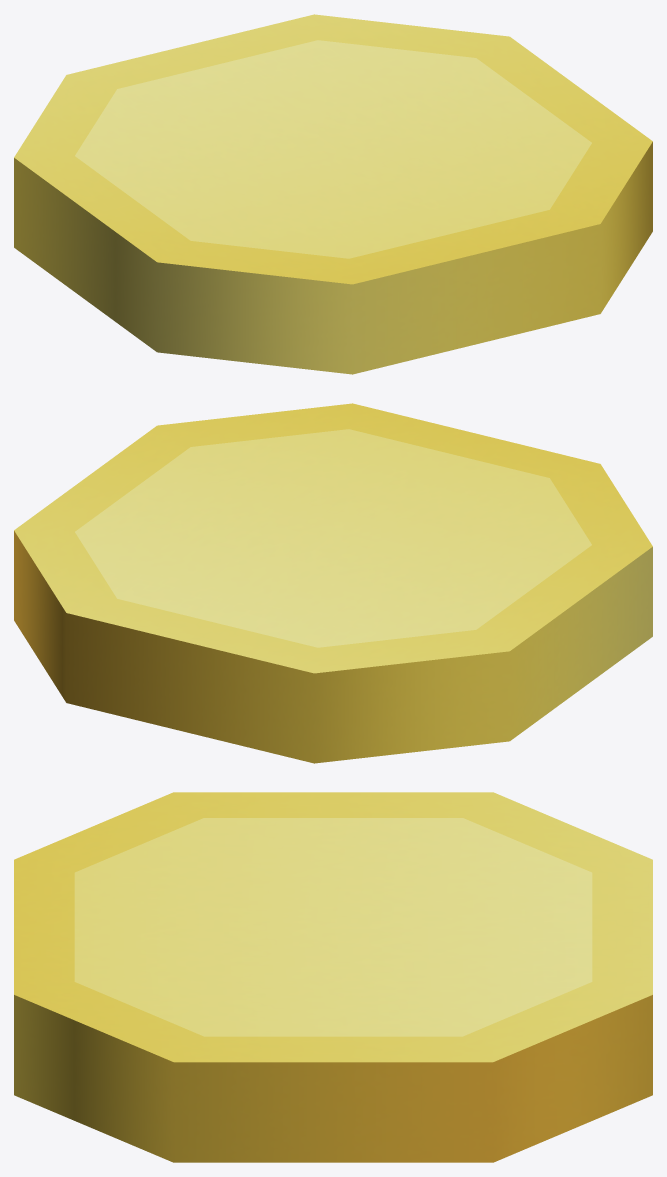
File: banana_slice.fbx
3 renders of one model, top to bottom at view 1: azimuth 30°, elevation 25°; view 2: azimuth 150°, elevation 25°; view 3: azimuth 270°, elevation 25°, orthographic. The views are drawn at different scales.
Parts seen in each view (by area): view 1: banana_slice; view 2: banana_slice; view 3: banana_slice.
Part boxes in pixels (x1,y1,x2,y2): banana_slice: (14, 14, 652, 374); banana_slice: (14, 403, 652, 763); banana_slice: (14, 792, 652, 1162).
Bounding box in the file's own units: 13.39 × 2.32 × 13.39.
